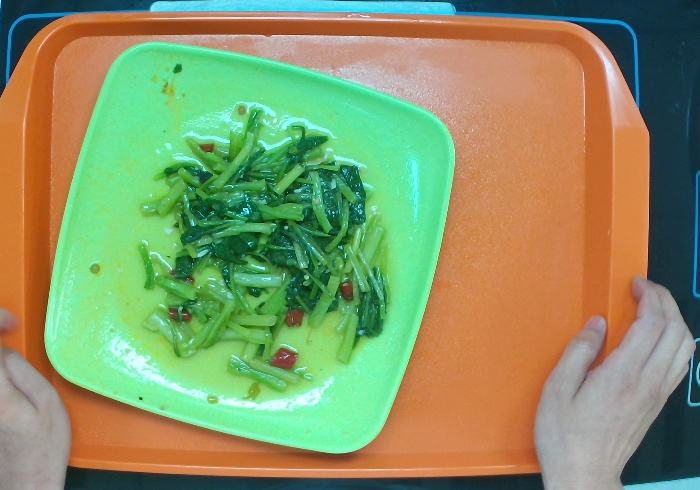ZNLD-Lv_Fang_Pan: (40, 38, 463, 466)
